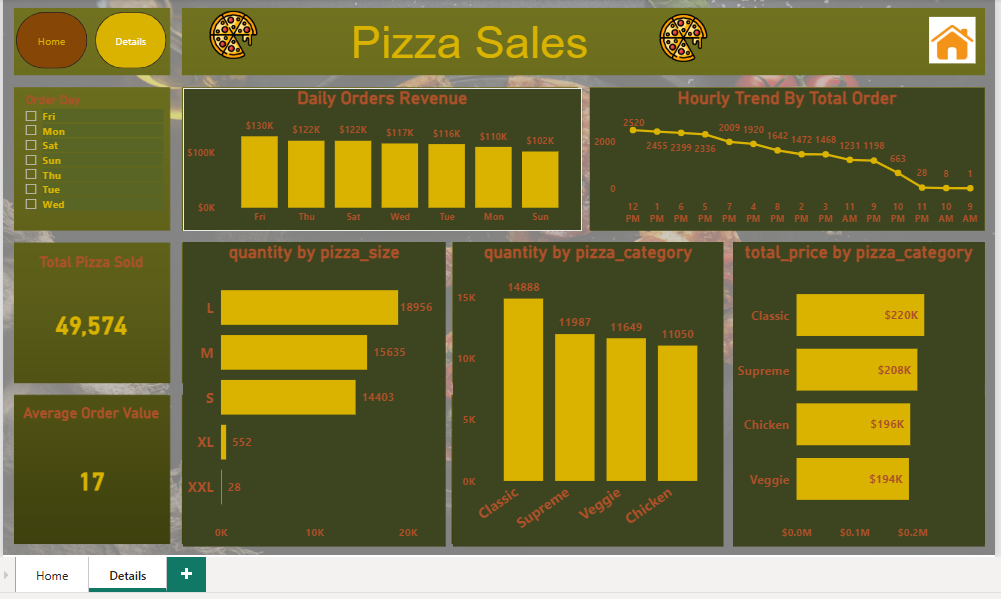

The dashboard page shown, as its layout file describes it:
{"tool":"powerbi","page":{"name":"Details","canvas":[1280,720],"ordinal":1},"visuals":[{"type":"pageNavigator","box":[17,17,194.2,73.7],"z":0},{"type":"columnChart","title":"Daily Orders Revenue ","fields":{"Y":["measures (2).Total Revenue"],"Category":["Query (2).Order Day"]},"box":[231.7,114.4,514.9,184.5],"z":1000},{"type":"card","title":"Average Order Value","fields":{"Values":["measures (2).Average Order Value"]},"box":[17.2,522,194.5,174.5],"z":2000},{"type":"lineChart","title":"Hourly Trend By Total Order","fields":{"Y":["measures (2).Total Orders"],"Category":["Query (2).Hour_12"]},"box":[758,114.4,509.1,184.5],"z":3000},{"type":"slicer","fields":{"Values":["Query (2).Order Day"]},"box":[17.2,114.4,194.5,184.5],"z":4000},{"type":"card","title":"Total Pizza Sold","fields":{"Values":["measures (2).Total Pizza Sold"]},"box":[17.2,327.5,194.5,161.6],"z":5000},{"type":"image","box":[231.7,10,130.1,71.5],"z":6000},{"type":"textbox","box":[334.7,17.2,543.5,68.6],"z":7000},{"type":"image","box":[812.3,14.3,130.1,71.5],"z":8000},{"type":"barChart","title":"quantity by pizza_size","fields":{"Y":["Sum(Query (2).quantity)"],"Category":["Query (2).pizza_size"]},"box":[231.7,313.2,338.9,393.3],"z":9000},{"type":"columnChart","title":"quantity by pizza_category","fields":{"Y":["Sum(Query (2).quantity)"],"Category":["Query (2).pizza_category"]},"box":[580.6,313.2,349,393.3],"z":10000},{"type":"barChart","title":" total_price by pizza_category","fields":{"Y":["Sum(Query (2).total_price)"],"Category":["Query (2).pizza_category"]},"box":[942.5,313.2,324.6,393.3],"z":11000},{"type":"image","box":[1181.3,18.6,85.8,70.1],"z":12000}]}

Visuals, with their boxes on the page's 1280x720 design canvas (x1, y1, x2, y2). These are canvas units, not pixel positions in the 1001x599 screenshot, which may show the page scaled, cropped or inside an application window:
pageNavigator: 17:17:211:91
"Daily Orders Revenue " columnChart: 232:114:747:299
"Average Order Value" card: 17:522:212:696
"Hourly Trend By Total Order" lineChart: 758:114:1267:299
slicer - Query (2).Order Day: 17:114:212:299
"Total Pizza Sold" card: 17:328:212:489
image: 232:10:362:82
textbox: 335:17:878:86
image: 812:14:942:86
"quantity by pizza_size" barChart: 232:313:571:706
"quantity by pizza_category" columnChart: 581:313:930:706
" total_price by pizza_category" barChart: 942:313:1267:706
image: 1181:19:1267:89
